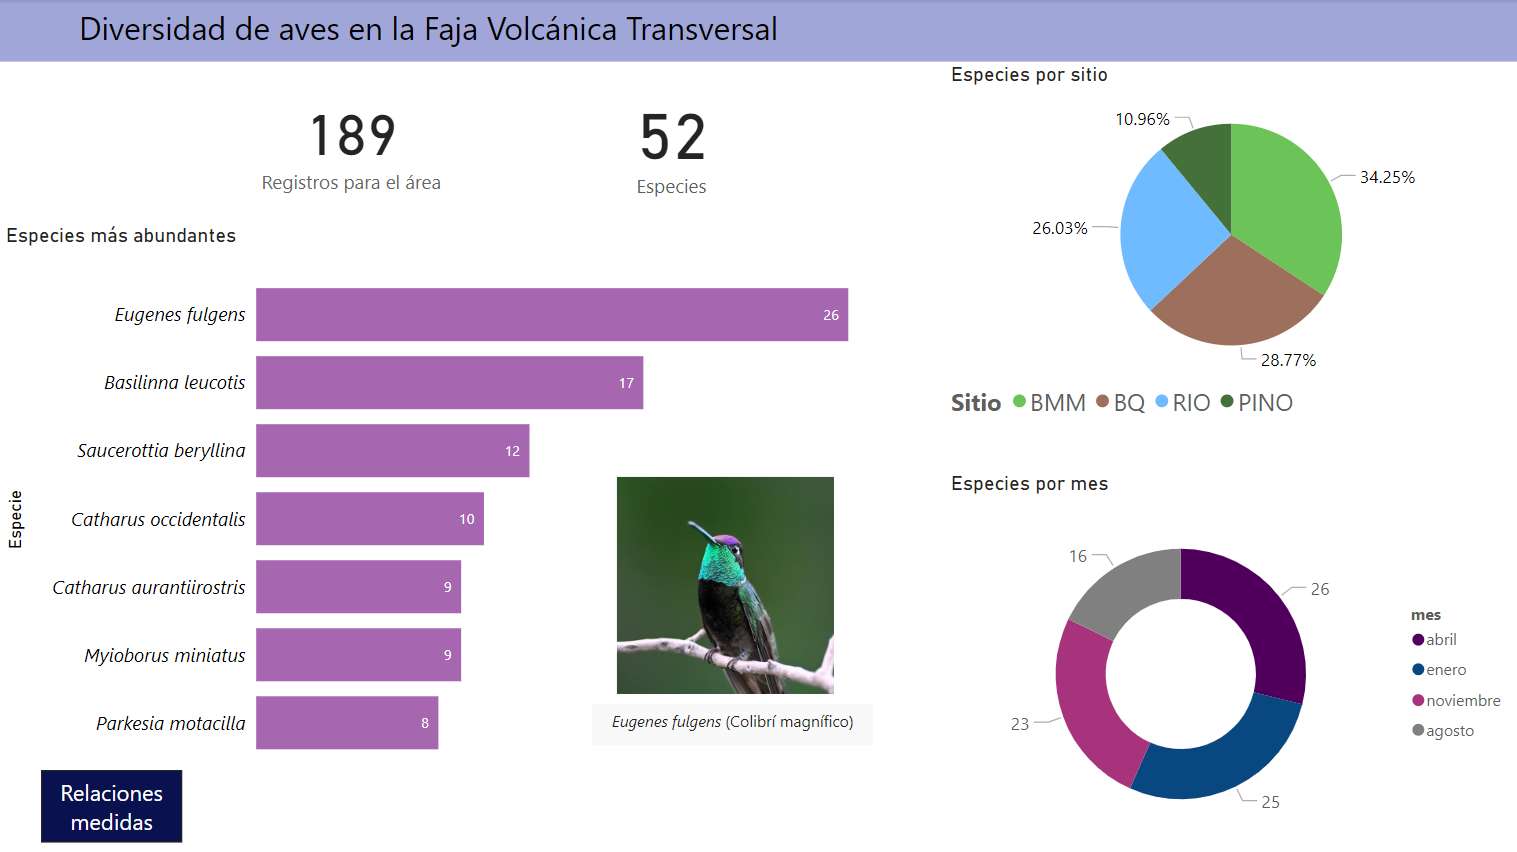

The page's visual inventory and layout, read from the dashboard file:
{"tool":"powerbi","page":{"name":"General","canvas":[1280,720],"ordinal":0},"visuals":[{"type":"barChart","title":"Especies más abundantes","fields":{"Category":["datosaves3.especie"],"Y":["CountNonNull(datosaves3.especie)"]},"box":[0,188.1,743.3,472.8],"z":0},{"type":"shape","box":[0,0,1279.7,51.9],"z":1000},{"type":"pieChart","title":"Especies por sitio","fields":{"Category":["datosaves3.site"],"Y":["Count(datosaves3.especie)"]},"box":[797,51.9,482.7,308.1],"z":2000},{"type":"donutChart","title":"Especies por mes","fields":{"Category":["datosaves3.mes"],"Y":["Count(datosaves3.especie)"]},"box":[797,396.7,482.7,323.3],"z":3000},{"type":"card","fields":{"Values":["CountNonNull(datosaves3.especie)"]},"box":[190.7,65.4,211.3,104.8],"z":4000},{"type":"textbox","box":[0,0,722.7,45.7],"z":5000},{"type":"card","fields":{"Values":["Count(datosaves3.especie)"]},"box":[466.6,65.4,199.7,104.8],"z":6000},{"type":"pageNavigator","box":[35,649,119,61.4],"z":7000},{"type":"image","box":[514.9,396.7,192.5,192.5],"z":8000},{"type":"textbox","box":[498.8,593.7,237.3,34.9],"z":9000}]}

Visuals, with their boxes in screenshot pixels (x1, y1, x2, y2), scaled from the page's 1280x720 canvas onto the 1517x852 screenshot:
"Especies más abundantes" barChart: detection(0, 223, 881, 782)
shape: detection(0, 0, 1516, 61)
"Especies por sitio" pieChart: detection(945, 61, 1516, 426)
"Especies por mes" donutChart: detection(945, 469, 1516, 851)
card - CountNonNull(datosaves3.especie): detection(226, 77, 476, 201)
textbox: detection(0, 0, 857, 54)
card - Count(datosaves3.especie): detection(553, 77, 790, 201)
pageNavigator: detection(41, 768, 183, 841)
image: detection(610, 469, 838, 697)
textbox: detection(591, 703, 872, 744)
